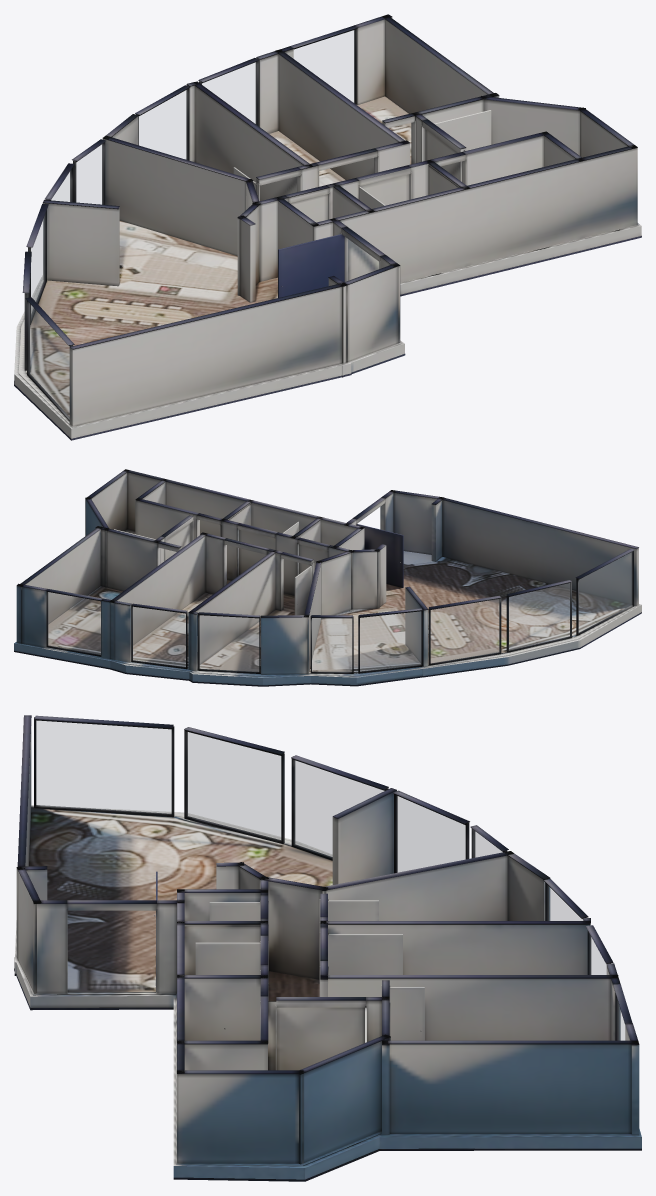
3 views of the same model, one above another, from view 1: azimuth 30°, elevation 25°; view 2: azimuth 150°, elevation 25°; view 3: azimuth 270°, elevation 25° (orthographic). The views are drawn at different scales.
Parts seen in each view (by area): view 1: plan, glass0_m, glass7_m, glass5_m, glass6_m, glass4_m, glass2_m; view 2: plan, glass2_m, glass3_m, glass1_m, glass5_m, glass0_m, glass6_m, glass7_m, glass4_m; view 3: plan, glass0_m, glass1_m, glass2_m, glass3_m.
Boxes of the visible parts, x1,y1,x2,y2 form: plan: (14,14,641,440); glass0_m: (29,303,69,417); glass7_m: (294,30,354,102); glass5_m: (139,90,186,159); glass6_m: (202,62,256,123); glass4_m: (76,144,102,204); glass2_m: (31,216,44,316); plan: (14,469,641,686); glass2_m: (431,599,499,663); glass3_m: (360,611,421,671); glass1_m: (509,583,569,650); glass5_m: (200,615,258,671); glass0_m: (579,552,632,632); glass6_m: (133,607,185,666); glass7_m: (48,592,100,654); glass4_m: (312,618,351,671); plan: (14,715,641,1181); glass0_m: (36,721,171,814); glass1_m: (187,732,280,840); glass2_m: (294,760,383,857); glass3_m: (397,796,465,872).
Bounding box in the file's own units: 19.54 × 2.62 × 14.27.
Materials: 2 (1 with a texture image).
